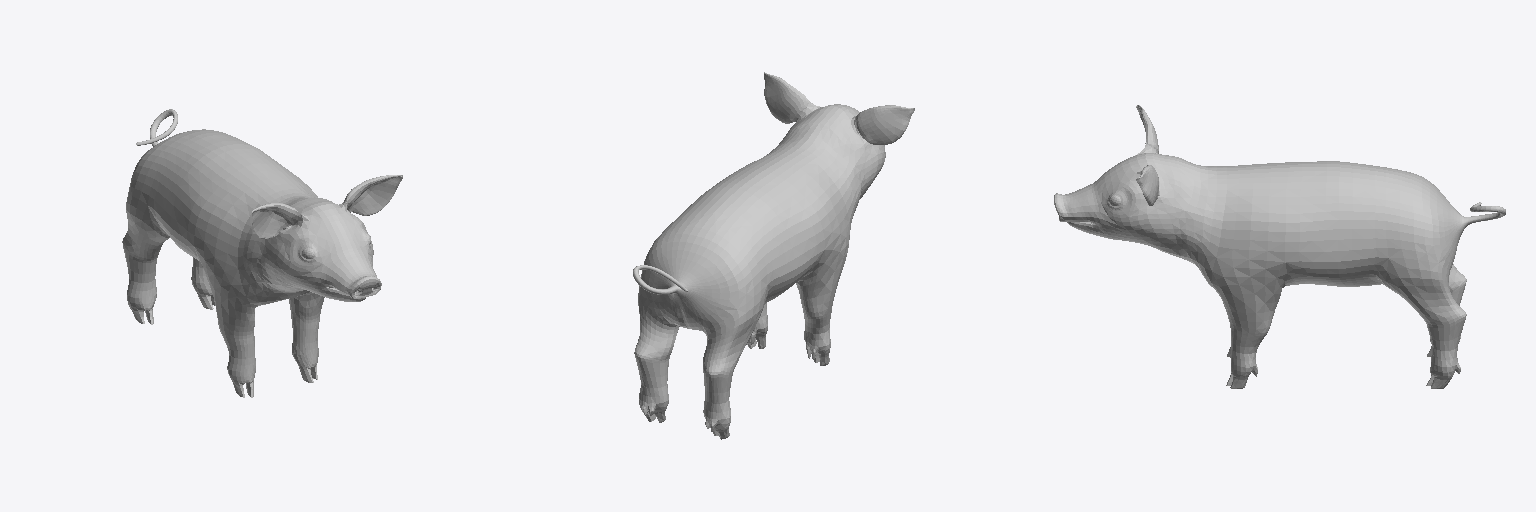
Rendered from marrano.obj.
3 views of the same model, side by side, from view 1: azimuth 30°, elevation 25°; view 2: azimuth 150°, elevation 25°; view 3: azimuth 270°, elevation 25° (orthographic).
Parts seen in each view (by area): view 1: Piglet; view 2: Piglet; view 3: Piglet.
Part boxes in pixels (x1,y1,x2,y2): Piglet: (122, 109, 402, 397); Piglet: (633, 72, 914, 439); Piglet: (1054, 105, 1505, 388).
Bounding box in the file's own units: 0.5757 × 0.8405 × 1.5.